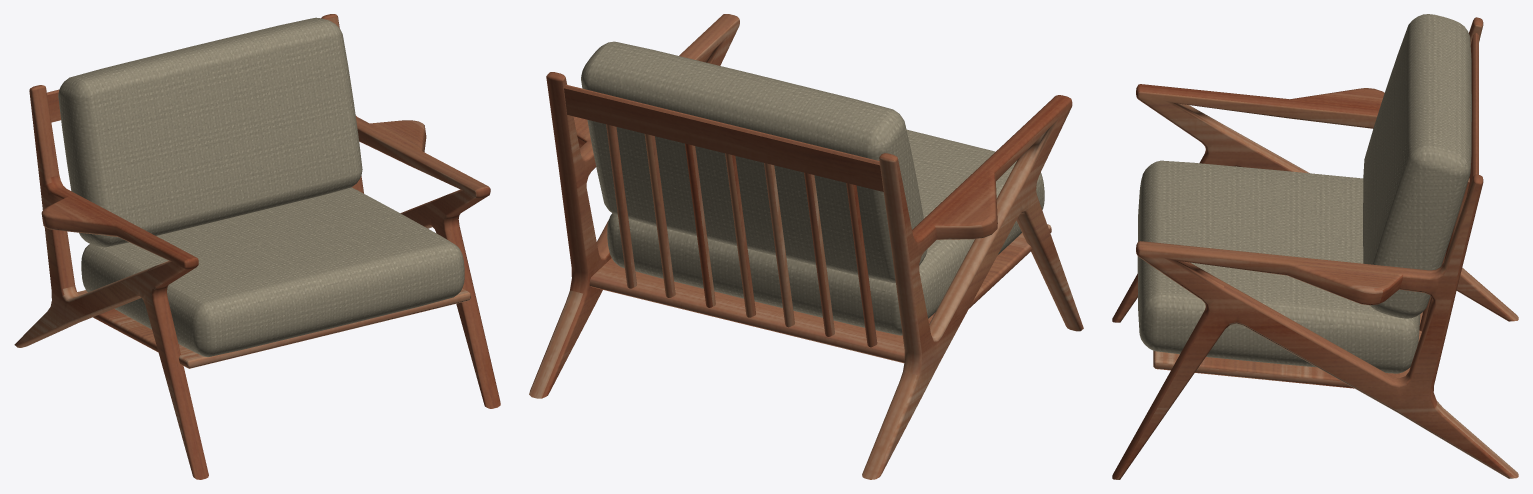
The model's file is chair.glb.
The picture shows the model from 3 angles, left to right: view 1: azimuth 30°, elevation 25°; view 2: azimuth 150°, elevation 25°; view 3: azimuth 270°, elevation 25°; orthographic projection. The views are drawn at different scales.
Visible parts, largest first — view 1: chair; view 2: chair; view 3: chair.
Boxes of the visible parts, x1,y1,x2,y2 form: chair: (14, 14, 500, 479); chair: (529, 14, 1083, 479); chair: (1112, 14, 1518, 479).
Bounding box in the file's own units: 0.8955 × 0.6556 × 0.7542.
2 materials, 2 textured.
